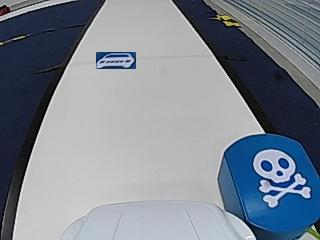danger: (252, 148, 311, 205)
